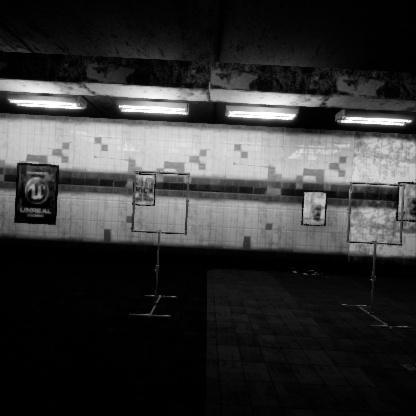gate: (131, 180, 195, 246), (347, 169, 410, 235)
